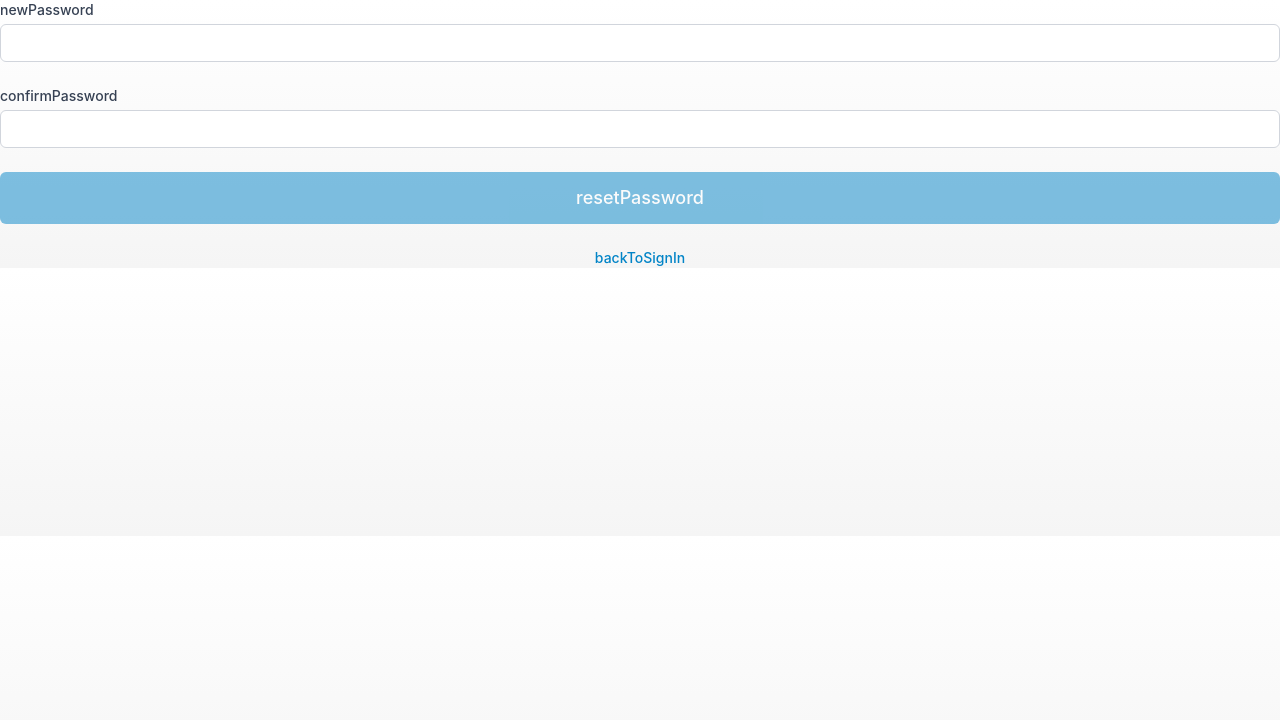
Test: ResetPasswordForm › shows expired error when token is expired
Step 1. Type "Password1" into the password field labelled "newPassword" → coordinates (640, 43), box [0, 24, 1279, 62]
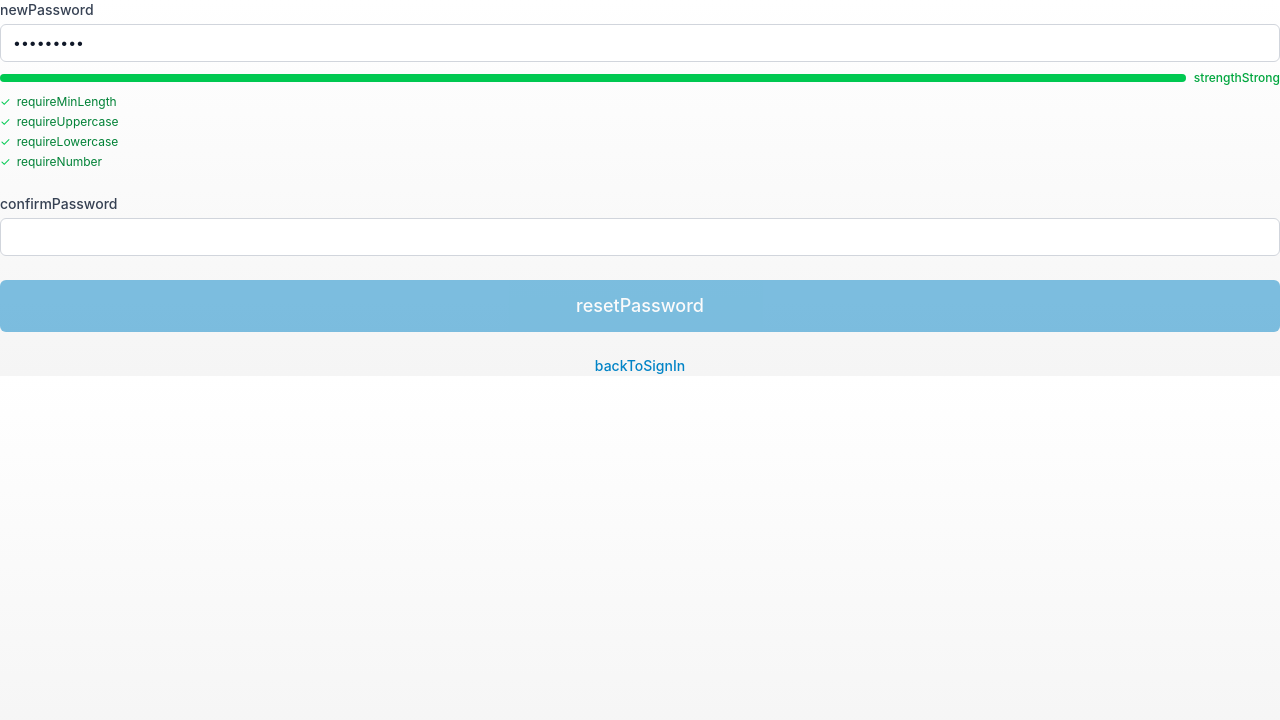
Step 2. Type "Password1" into the password field labelled "confirmPassword" → coordinates (640, 237), box [0, 218, 1279, 256]
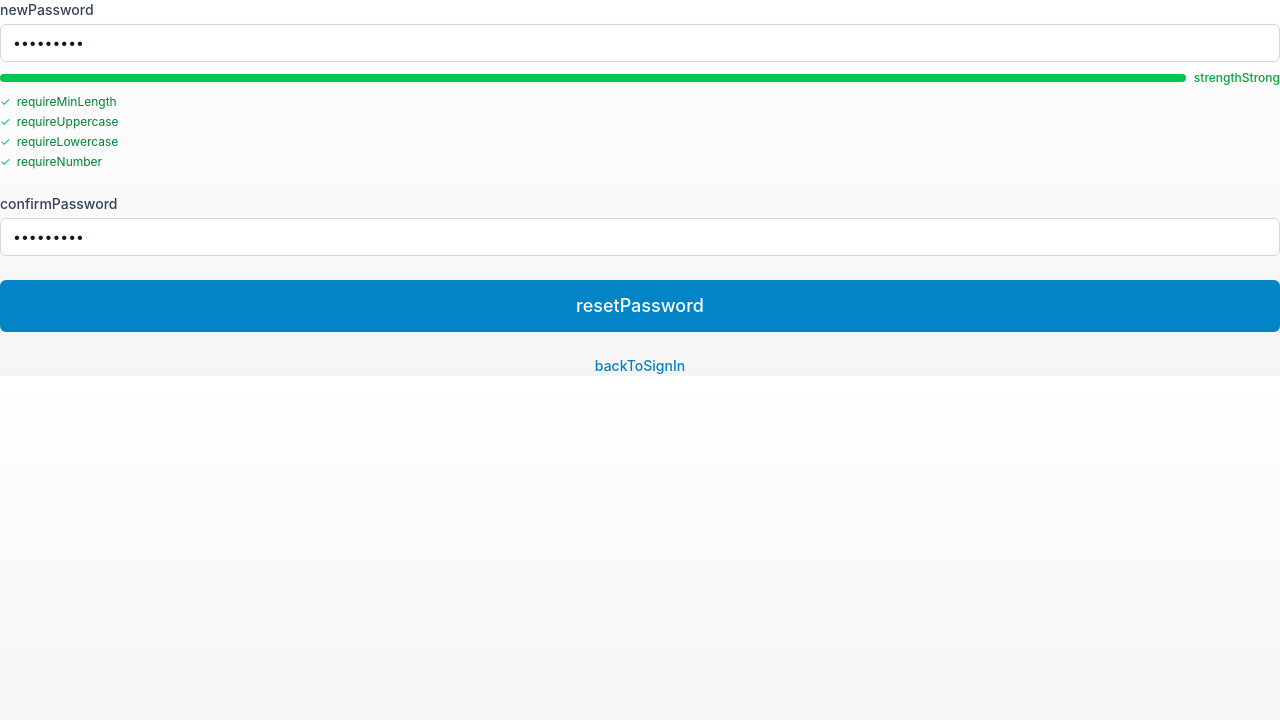
Step 3. Click the button "resetPassword" → coordinates (640, 306), box [0, 280, 1279, 332]
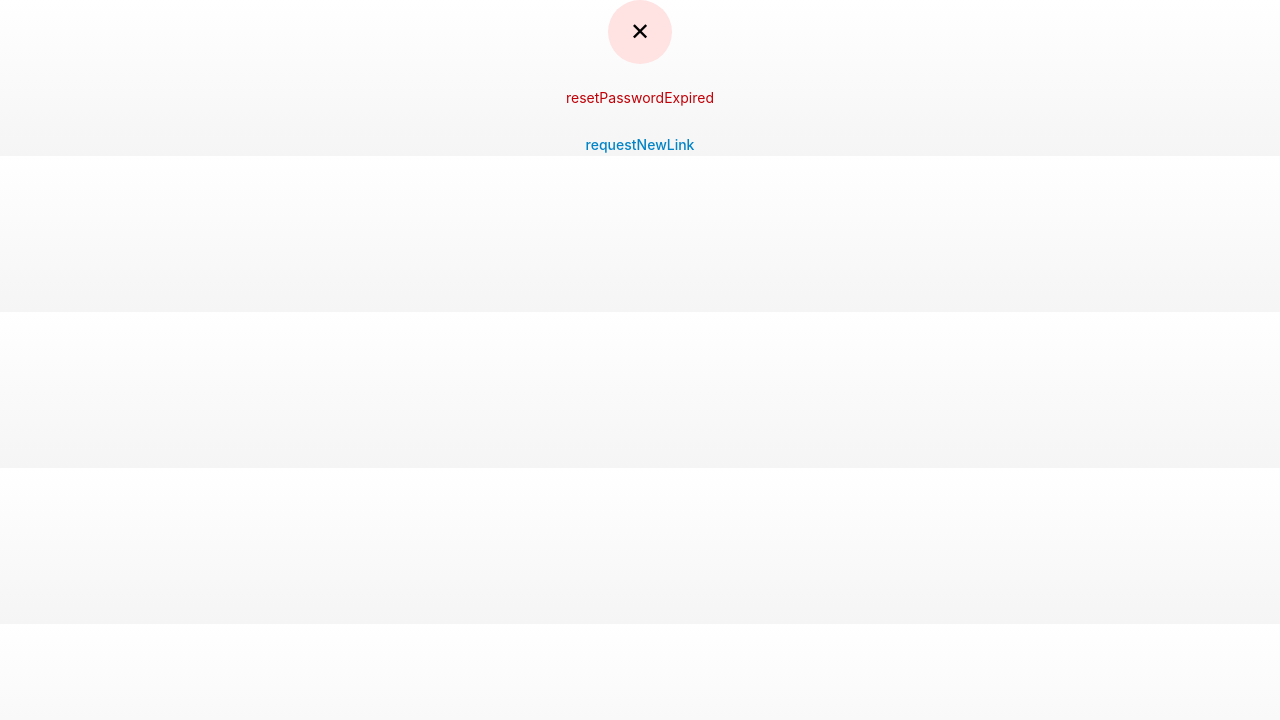
Expected: the element with test id "reset-error-state" is shown, [566, 0, 714, 153]
Expected: the text "resetPasswordExpired" is shown, [566, 89, 714, 106]
Expected: the link "requestNewLink" is shown, [586, 135, 694, 155]
